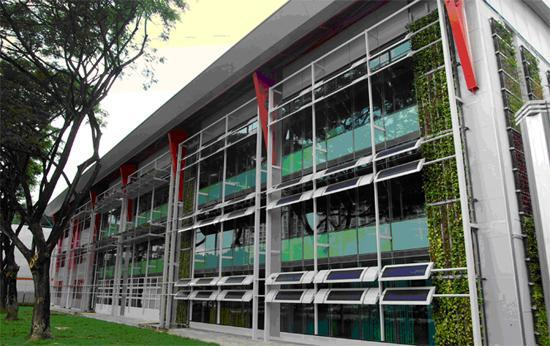affected: (39, 0, 537, 346)
